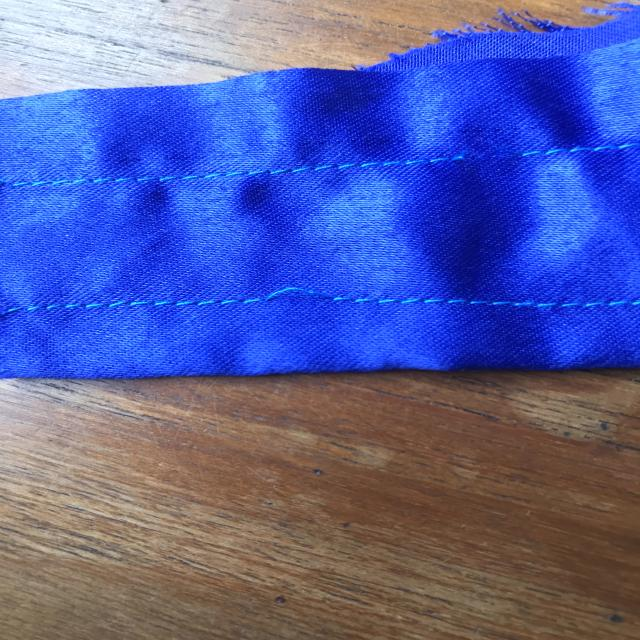broken: (438, 128, 558, 176)
good: (188, 158, 344, 183)
skip: (254, 265, 351, 326)
